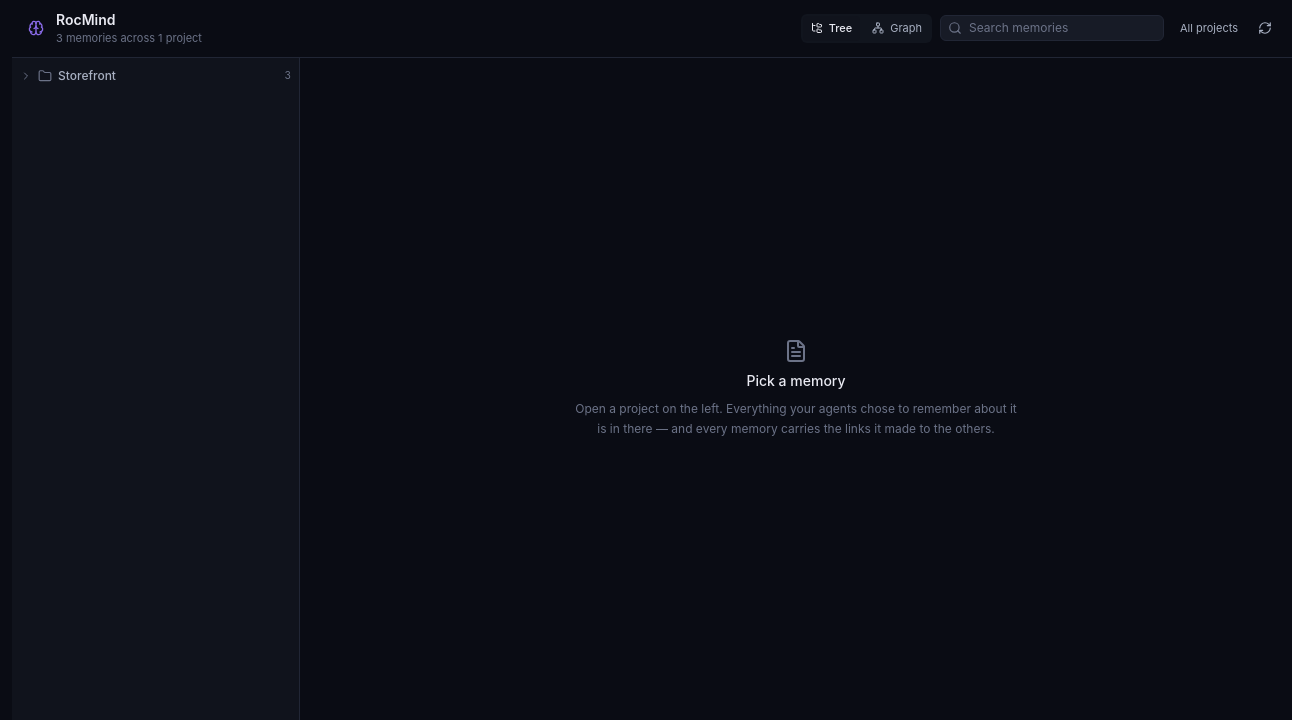
Test: the memory pane › can be put down again
Click the button "Storefront 3": [87, 75] box [12,62,299,90]
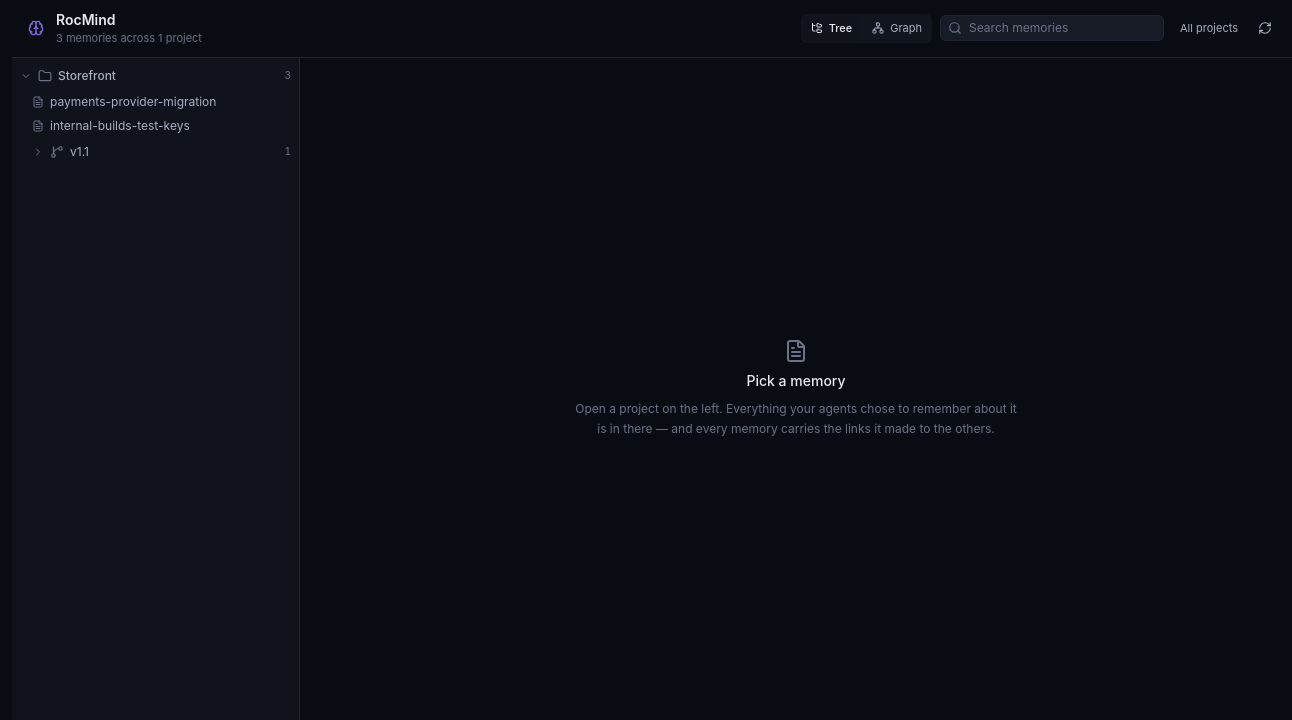
Click the button "payments-provider-migration": [162, 102] box [24,90,299,114]
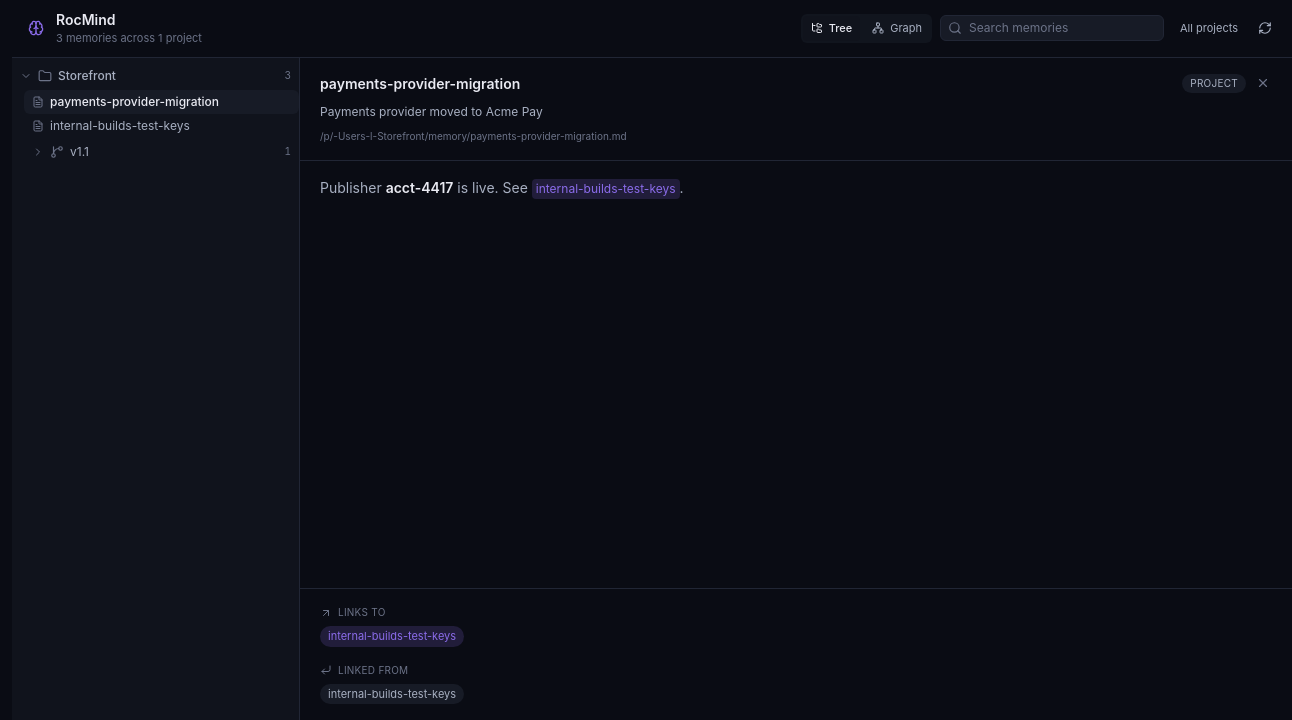
Click the button named "Close this memory": [1263, 82] box [1254,74,1272,92]
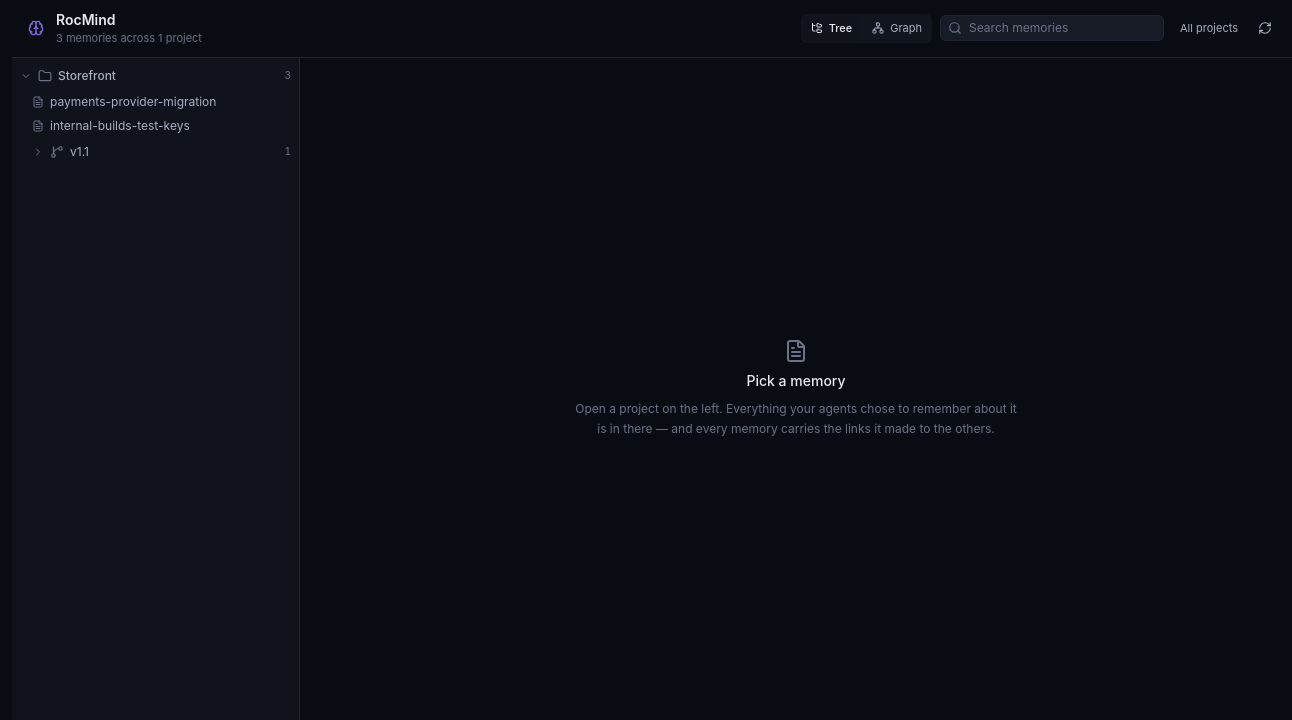
Check: the text "Pick a memory" is shown, box [746,372,846,389]
